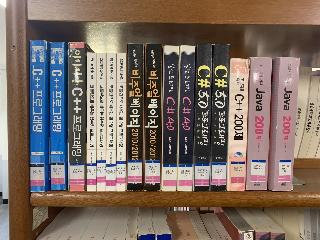book-spine: (273, 57, 299, 192), (246, 57, 272, 191), (227, 58, 249, 191), (28, 40, 47, 192), (67, 42, 86, 191), (193, 44, 212, 192), (210, 44, 229, 192), (177, 45, 196, 191), (48, 42, 66, 190), (144, 44, 162, 191), (162, 46, 179, 191), (127, 44, 143, 191), (96, 53, 106, 191), (116, 54, 126, 191), (87, 52, 96, 191), (106, 53, 115, 191)
